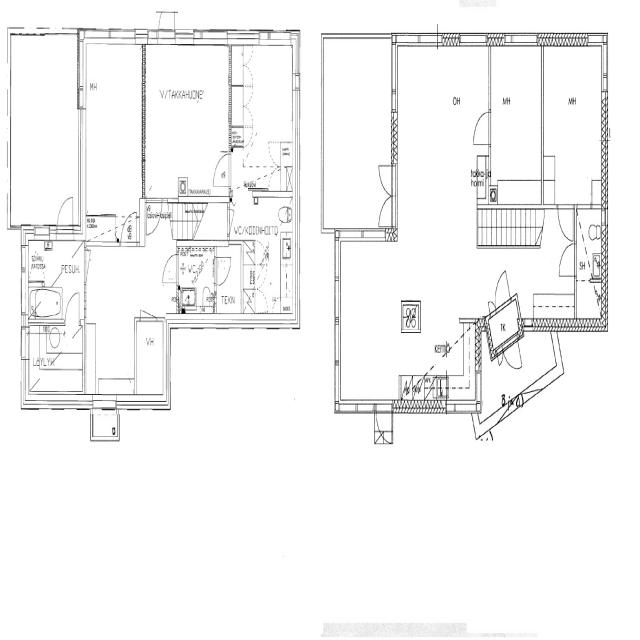door: (502, 332, 523, 382), (56, 188, 74, 240), (490, 268, 510, 314), (375, 401, 391, 448), (158, 0, 174, 44), (376, 164, 397, 196), (376, 196, 397, 227), (558, 243, 576, 278), (140, 283, 156, 321), (146, 198, 162, 236), (121, 208, 136, 246), (214, 155, 232, 186), (474, 112, 491, 144), (558, 204, 573, 240), (84, 250, 101, 281), (64, 290, 79, 325), (162, 254, 179, 284), (578, 176, 591, 208), (214, 257, 229, 284), (227, 209, 242, 234), (496, 343, 505, 369), (488, 298, 496, 318)
